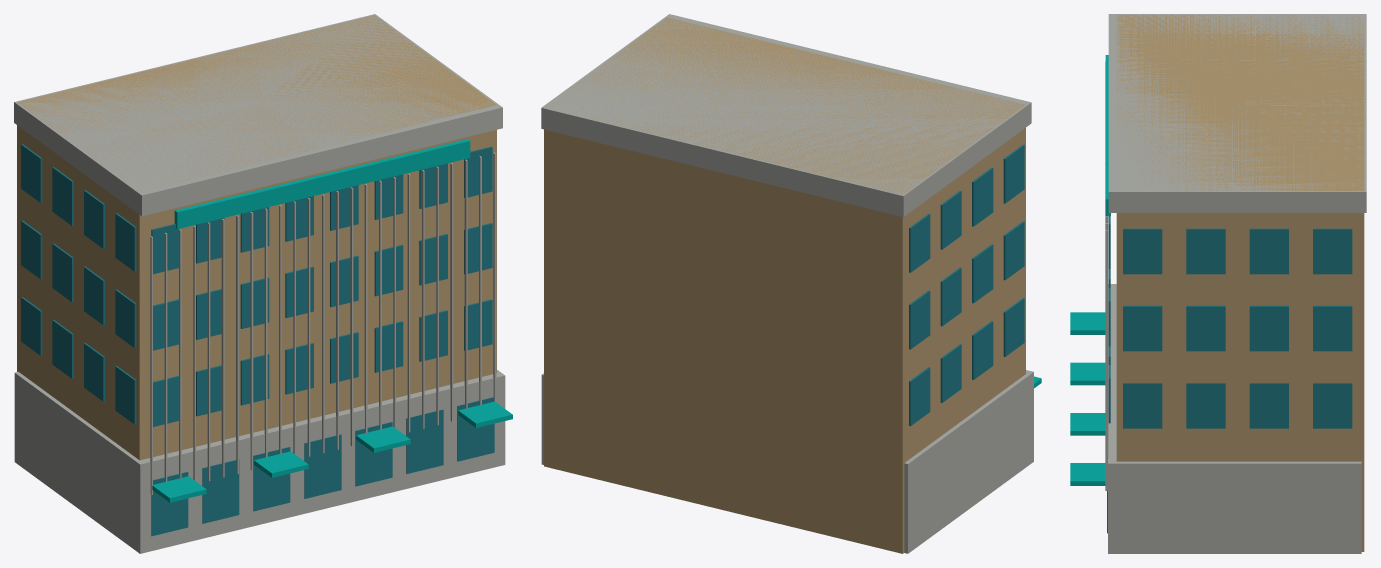
The model's file is JHB_MidRise03_LOD2.fbx.
3 renders of one model, left to right at view 1: azimuth 30°, elevation 25°; view 2: azimuth 150°, elevation 25°; view 3: azimuth 270°, elevation 25°, orthographic.
Parts seen in each view (by area): view 1: JHB_MidRise03_LOD2_Concrete, JHB_MidRise03_LOD2_FacadeAtlas, JHB_MidRise03_LOD2_TealGlass, JHB_MidRise03_LOD2_BlankSignBand, JHB_MidRise03_LOD2_Accent; view 2: JHB_MidRise03_LOD2_FacadeAtlas, JHB_MidRise03_LOD2_Concrete, JHB_MidRise03_LOD2_TealGlass; view 3: JHB_MidRise03_LOD2_FacadeAtlas, JHB_MidRise03_LOD2_Concrete, JHB_MidRise03_LOD2_TealGlass, JHB_MidRise03_LOD2_Accent, JHB_MidRise03_LOD2_BlankSignBand.
Boxes of the visible parts, <box> form: JHB_MidRise03_LOD2_Concrete: <box>14,14,505,553</box>; JHB_MidRise03_LOD2_FacadeAtlas: <box>17,15,496,460</box>; JHB_MidRise03_LOD2_TealGlass: <box>21,144,494,536</box>; JHB_MidRise03_LOD2_BlankSignBand: <box>174,139,470,229</box>; JHB_MidRise03_LOD2_Accent: <box>152,402,512,502</box>; JHB_MidRise03_LOD2_FacadeAtlas: <box>544,17,1025,553</box>; JHB_MidRise03_LOD2_Concrete: <box>541,14,1033,553</box>; JHB_MidRise03_LOD2_TealGlass: <box>909,144,1024,426</box>; JHB_MidRise03_LOD2_FacadeAtlas: <box>1116,15,1364,551</box>; JHB_MidRise03_LOD2_Concrete: <box>1105,14,1366,553</box>; JHB_MidRise03_LOD2_TealGlass: <box>1107,213,1352,533</box>; JHB_MidRise03_LOD2_Accent: <box>1070,312,1105,485</box>; JHB_MidRise03_LOD2_BlankSignBand: <box>1105,55,1110,216</box>.
Bounding box in the file's own units: 11.75 × 11 × 8.18.
5 materials, 1 textured.
